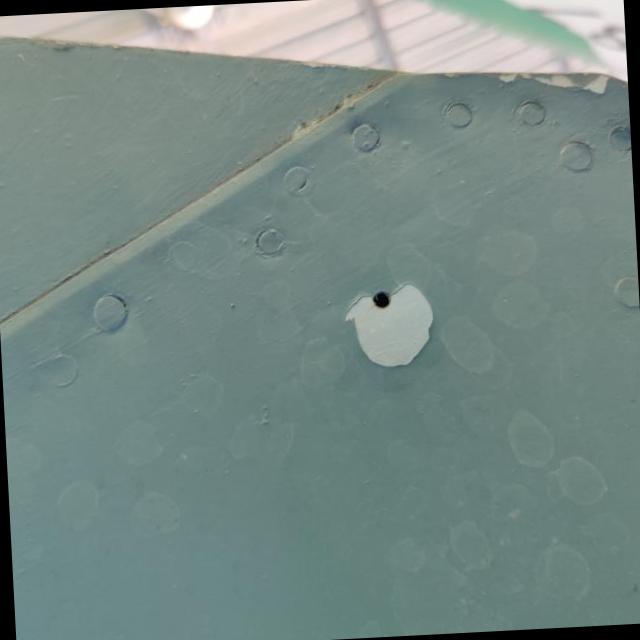Paint-off: (342, 283, 438, 373)
